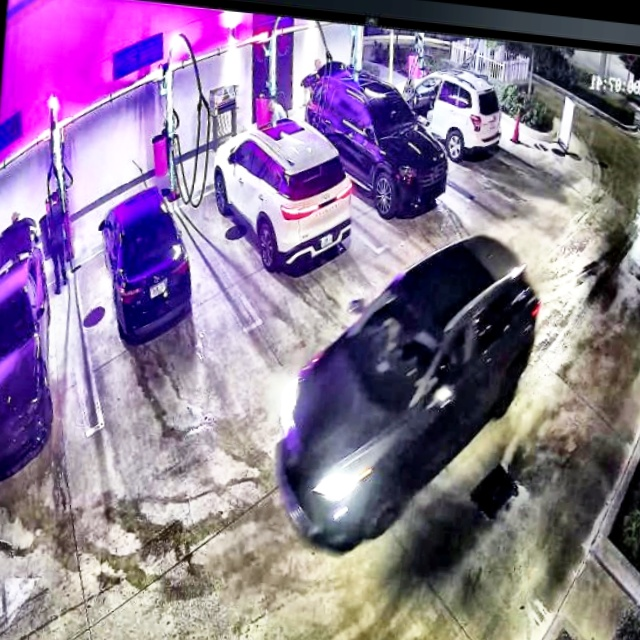Car: (259, 214, 549, 575), (202, 102, 364, 279), (295, 63, 456, 218), (88, 180, 204, 346), (387, 67, 507, 157)
